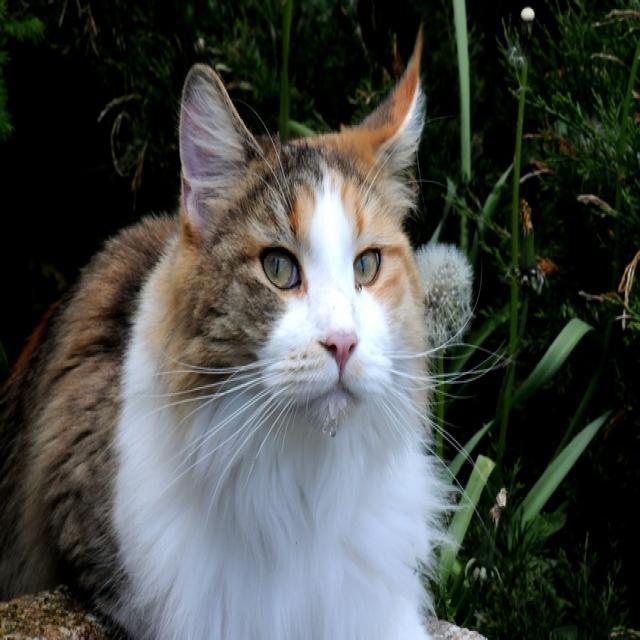Maine_Coon: (177, 29, 431, 521)
